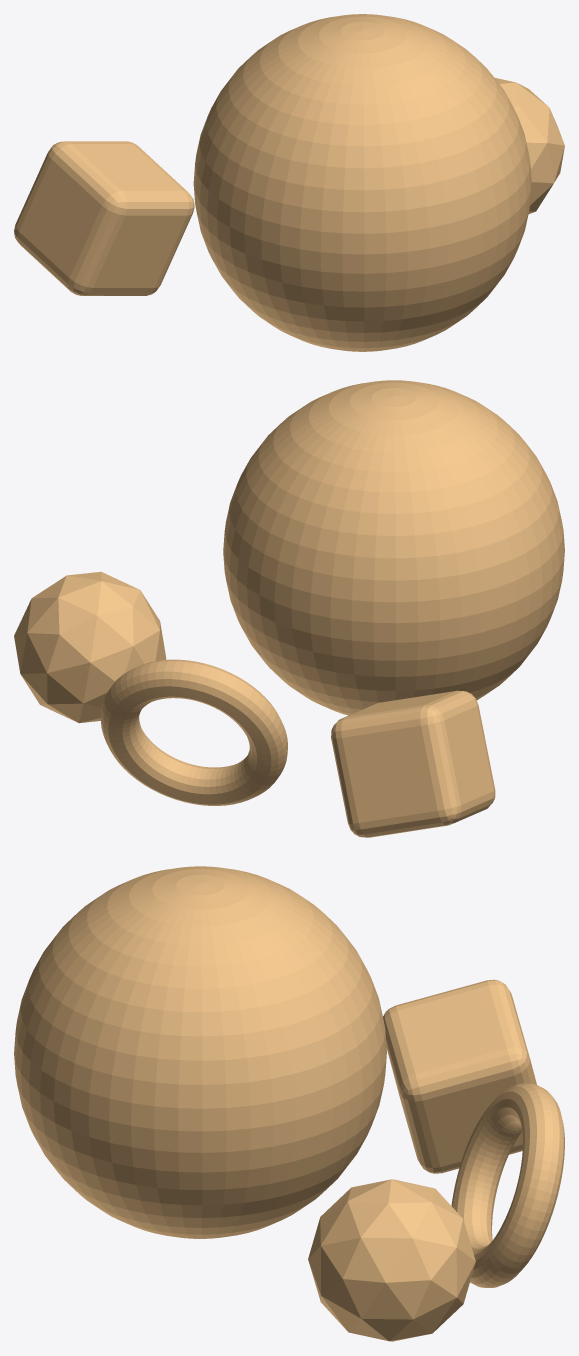
The picture shows the model from 3 angles, top to bottom: view 1: azimuth 30°, elevation 25°; view 2: azimuth 150°, elevation 25°; view 3: azimuth 270°, elevation 25°; orthographic projection. The views are drawn at different scales.
Parts seen in each view (by area): view 1: G00_0_sphere, G00_1_cube, G00_3_ico; view 2: G00_0_sphere, G00_1_cube, G00_2_torus, G00_3_ico; view 3: G00_0_sphere, G00_3_ico, G00_1_cube, G00_2_torus.
Boxes of the visible parts, x1=… form: G00_0_sphere: x1=193, y1=14, x2=531, y2=351; G00_1_cube: x1=14, y1=141, x2=194, y2=295; G00_3_ico: x1=495, y1=78, x2=564, y2=213; G00_0_sphere: x1=223, y1=380, x2=564, y2=715; G00_1_cube: x1=331, y1=690, x2=495, y2=837; G00_2_torus: x1=101, y1=659, x2=287, y2=805; G00_3_ico: x1=14, y1=571, x2=166, y2=723; G00_0_sphere: x1=14, y1=866, x2=386, y2=1238; G00_3_ico: x1=308, y1=1179, x2=475, y2=1341; G00_1_cube: x1=383, y1=979, x2=536, y2=1173; G00_2_torus: x1=451, y1=1083, x2=564, y2=1287.
Bounding box in the file's own units: 3.74 × 2.41 × 3.34.
